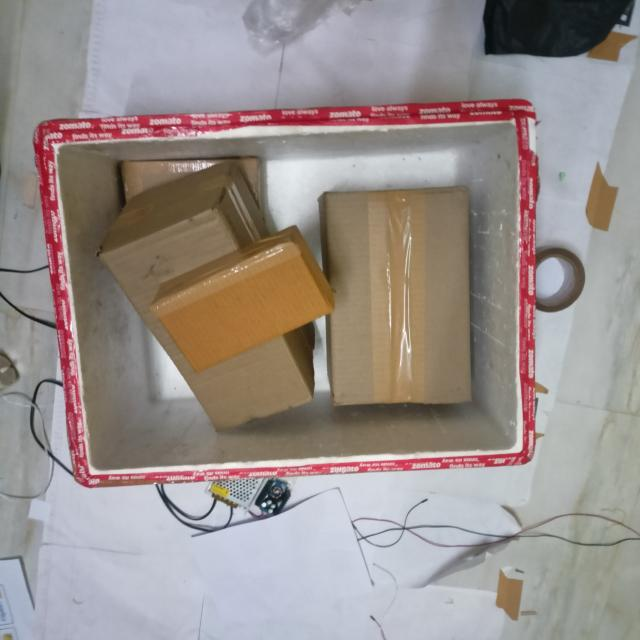box: (335, 188, 477, 400), (156, 245, 342, 373)
